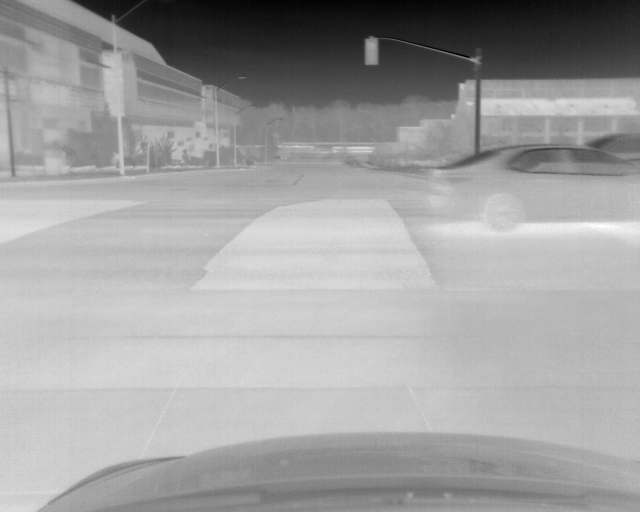car: (428, 143, 640, 233), (584, 132, 640, 163)
